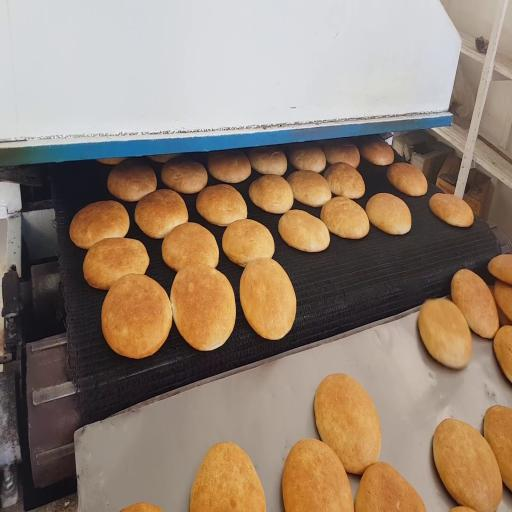bread: (314, 374, 381, 474), (433, 419, 502, 511), (102, 275, 172, 358), (171, 265, 235, 350), (190, 443, 266, 511), (282, 439, 353, 511), (240, 258, 296, 339), (418, 299, 471, 368), (83, 238, 149, 289), (355, 463, 425, 511), (451, 269, 499, 338), (70, 201, 129, 249), (162, 223, 219, 271), (135, 189, 188, 238), (222, 220, 274, 266), (484, 406, 511, 490), (196, 184, 247, 226), (279, 210, 330, 252), (107, 160, 157, 201), (321, 197, 369, 239), (366, 193, 411, 235), (249, 175, 293, 213), (288, 171, 331, 207), (161, 160, 207, 193), (324, 163, 365, 199), (430, 193, 473, 227), (208, 150, 251, 183), (387, 163, 427, 196), (249, 147, 287, 175), (289, 145, 326, 173), (323, 140, 359, 167), (494, 326, 511, 382), (359, 138, 394, 165), (488, 254, 512, 285), (495, 281, 511, 320), (495, 299, 511, 326), (122, 503, 162, 511), (148, 154, 180, 163), (97, 158, 126, 166), (450, 507, 474, 511)
